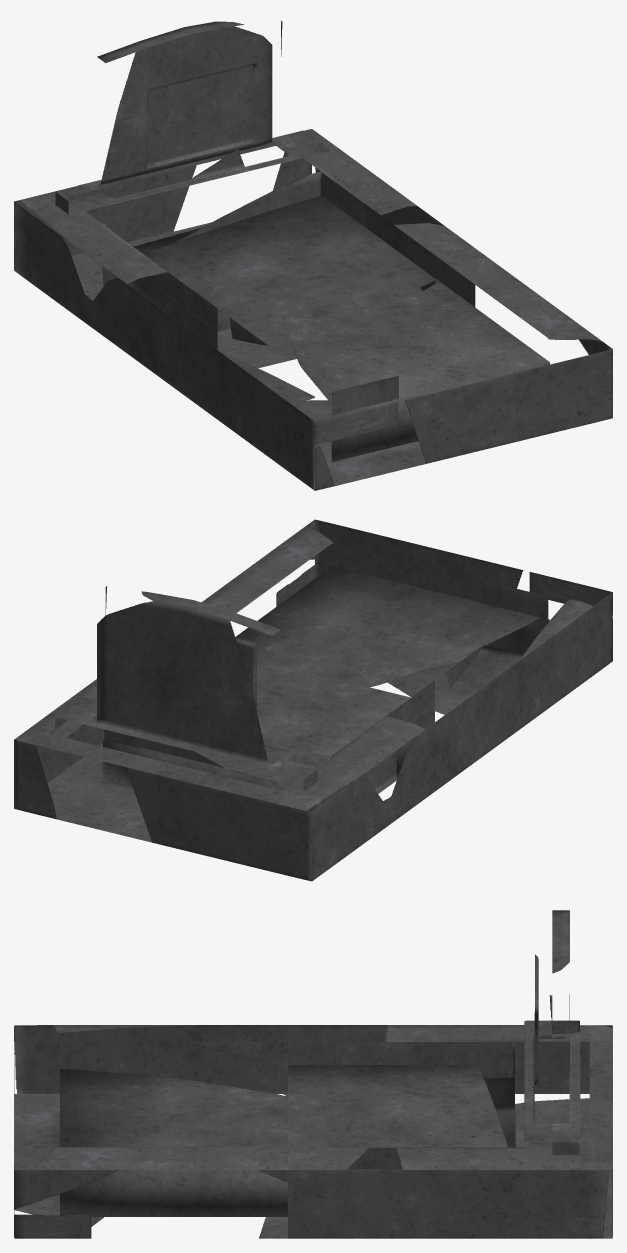
Rendered from grave_04.fbx.
The picture shows the model from 3 angles, top to bottom: view 1: azimuth 30°, elevation 25°; view 2: azimuth 150°, elevation 25°; view 3: azimuth 270°, elevation 25°; orthographic projection.
Parts seen in each view (by area): view 1: grave.003; view 2: grave.003; view 3: grave.003.
Part boxes in pixels (x1=…): grave.003: x1=14, y1=20, x2=612, y2=490; grave.003: x1=14, y1=519, x2=612, y2=881; grave.003: x1=14, y1=910, x2=612, y2=1238.
Size of the model in its own units: 201 by 144 by 351.
